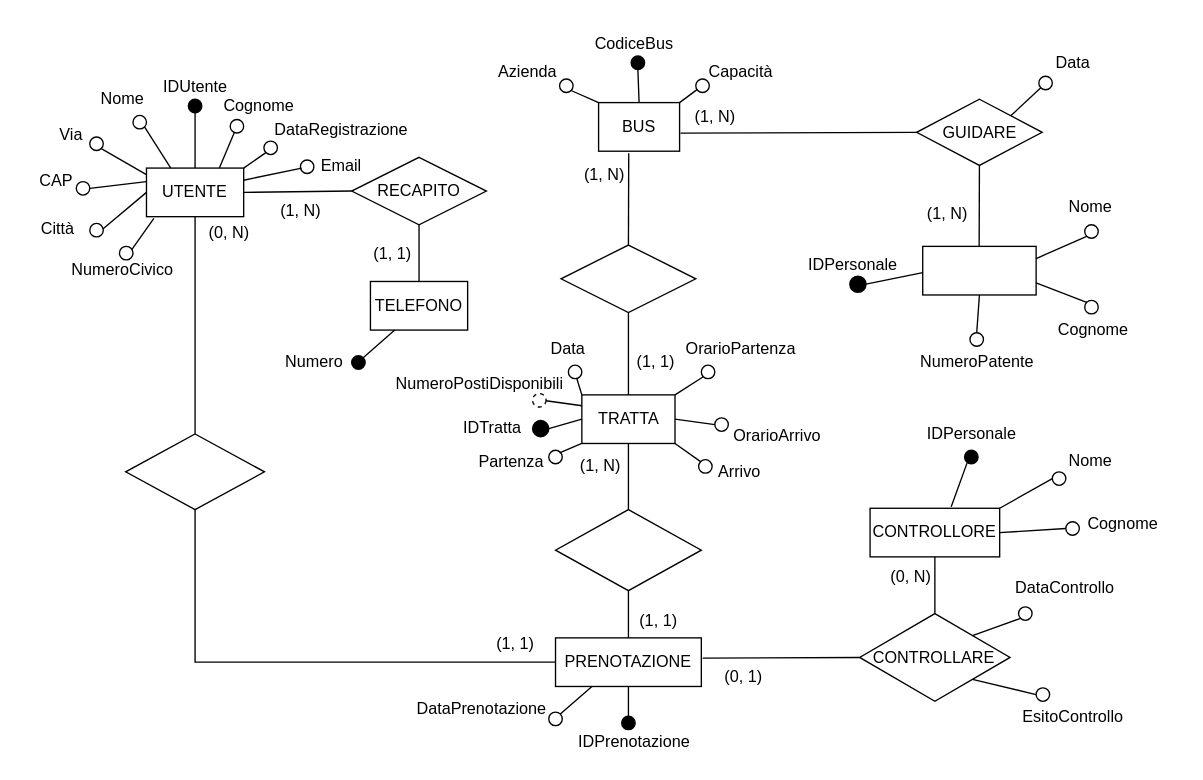
The diagram is 1203 pixels wide and 780 high, and some of its shapes have lost their labels. Here are the shapes that lost their labels. From the top down, the box of each, then its label:
(560, 244, 696, 313): VIAGGIARE
(921, 245, 1036, 295): AUTISTA
(124, 433, 264, 510): EFFETTUARE
(554, 508, 701, 591): ASSOCIARE
